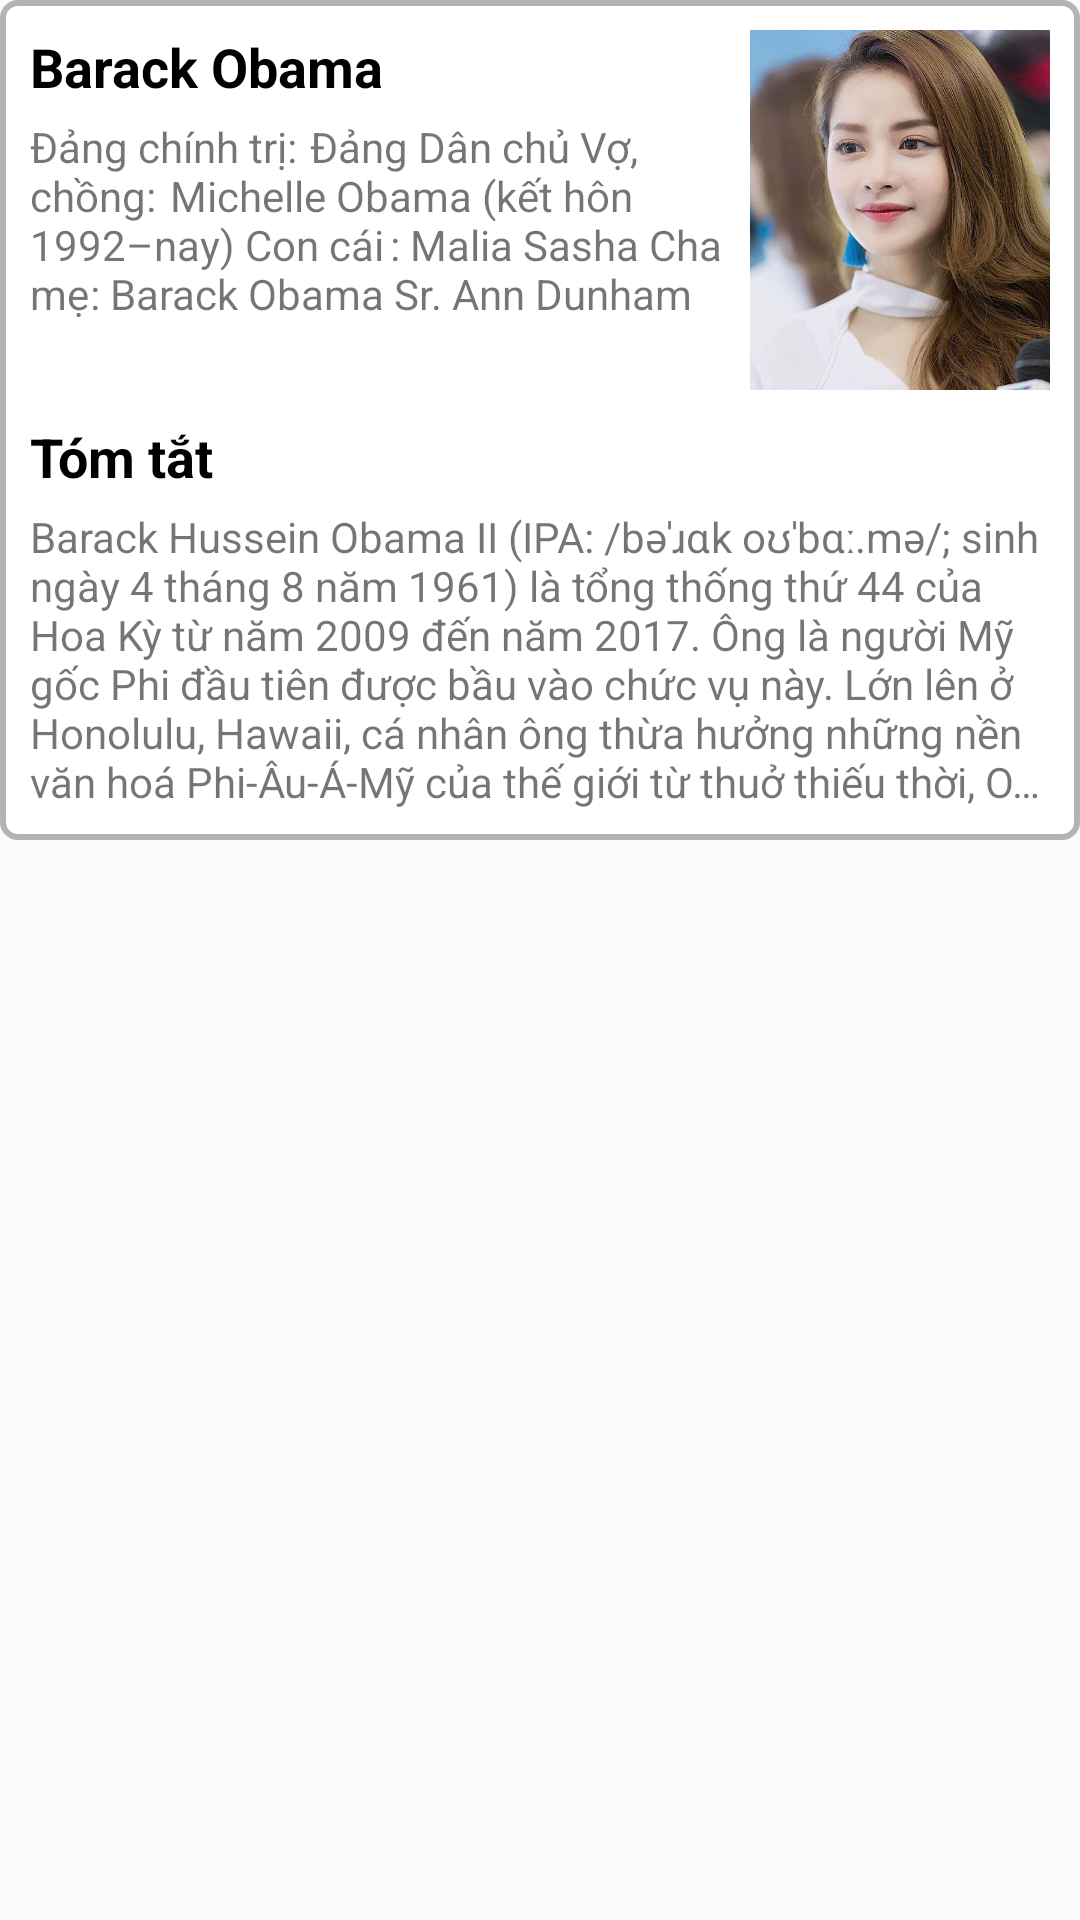

Screen size 1080px×1920px. Icon name, then its box in pixels as bbox=[x1, y1, x2, y2]:
anh chinh: bbox=[750, 30, 1050, 390]
